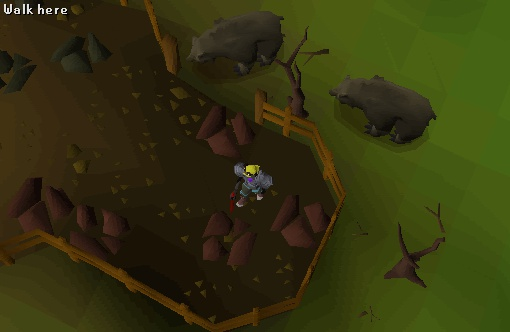coal: (38, 24, 124, 90)
iron: (195, 205, 265, 274), (265, 183, 335, 252), (189, 96, 259, 165), (62, 196, 132, 265)
